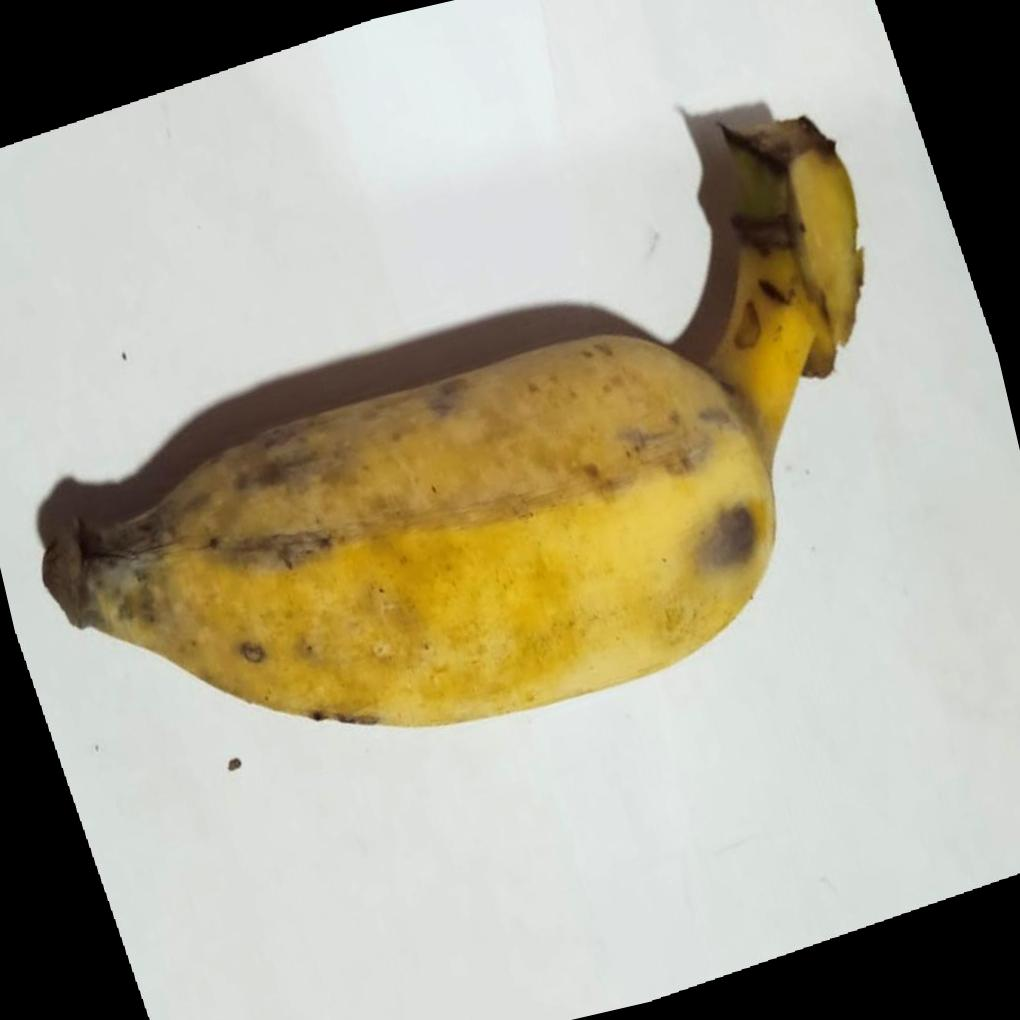Banana Ripe: (0, 79, 993, 898)
